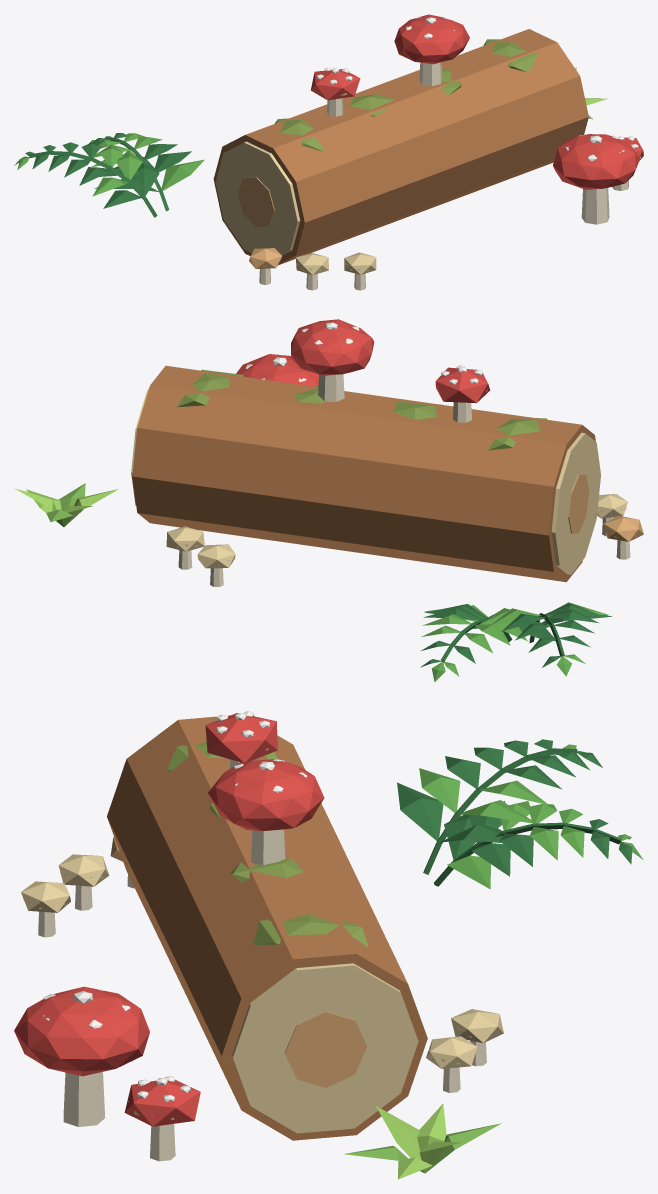
The model's file is mushroom_cluster.glb.
3 views of the same model, one above another, from view 1: azimuth 30°, elevation 25°; view 2: azimuth 150°, elevation 25°; view 3: azimuth 270°, elevation 25° (orthographic). The views are drawn at different scales.
Parts seen in each view (by area): view 1: Mushroom Cluster; view 2: Mushroom Cluster; view 3: Mushroom Cluster.
Part boxes in pixels (x1,y1,x2,y2): Mushroom Cluster: [14, 14, 643, 290]; Mushroom Cluster: [14, 319, 643, 681]; Mushroom Cluster: [14, 711, 643, 1179].
Bounding box in the file's own units: 1.8 × 0.5876 × 1.2.
Materials: 1 (1 with a texture image).
